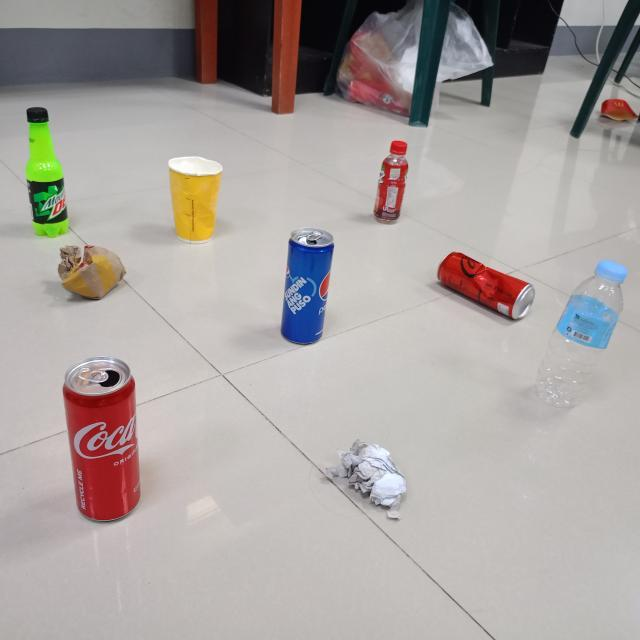recyclable waste: (529, 256, 638, 414), (56, 350, 150, 528), (432, 246, 538, 325), (274, 222, 338, 348), (321, 436, 414, 522), (20, 100, 73, 244), (162, 150, 226, 249), (52, 236, 132, 306), (368, 136, 413, 228)
